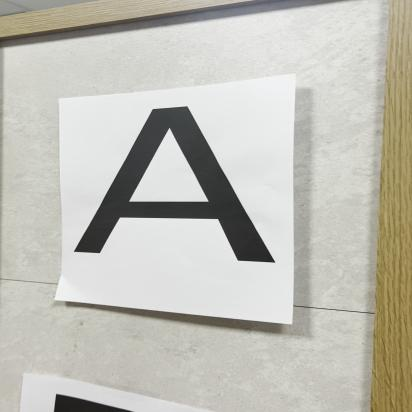seat: (74, 95, 264, 279)
